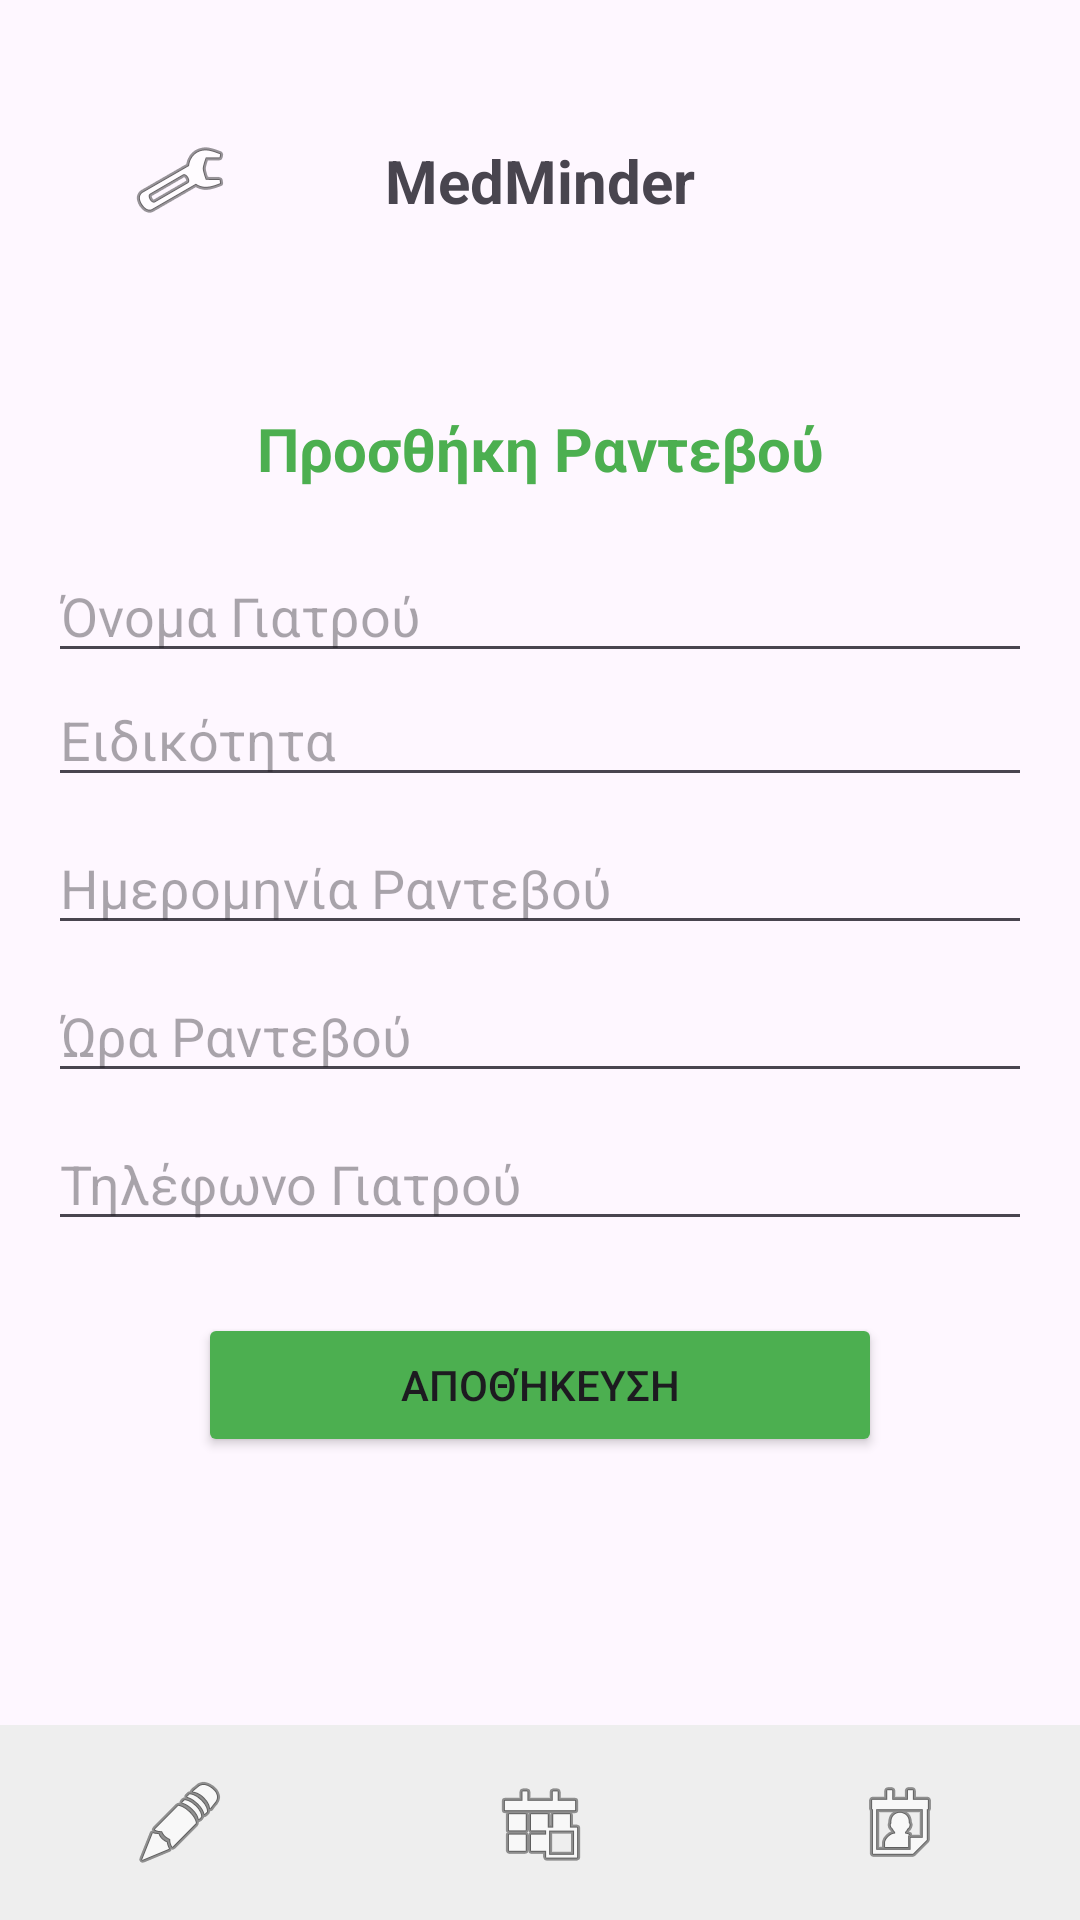

Icon click points for this 1080*1920 phone screenshot, format (x=x, y=y):
edit: (x=179, y=1822)
preferences: (x=180, y=180)
